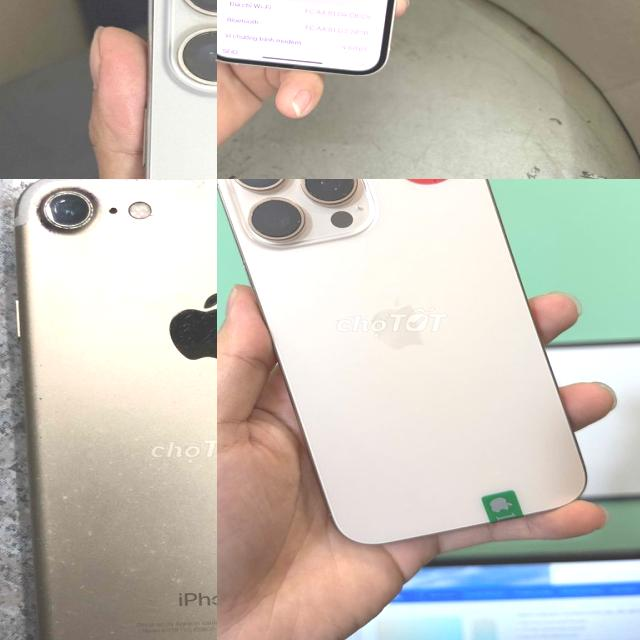gen_12_13: (217, 0, 444, 85)
gen_15: (132, 0, 217, 179)
gen_16: (217, 179, 585, 543)
gen_7_8: (0, 179, 217, 640)
scratch: (5, 179, 215, 246), (22, 462, 74, 624), (146, 530, 194, 592)
